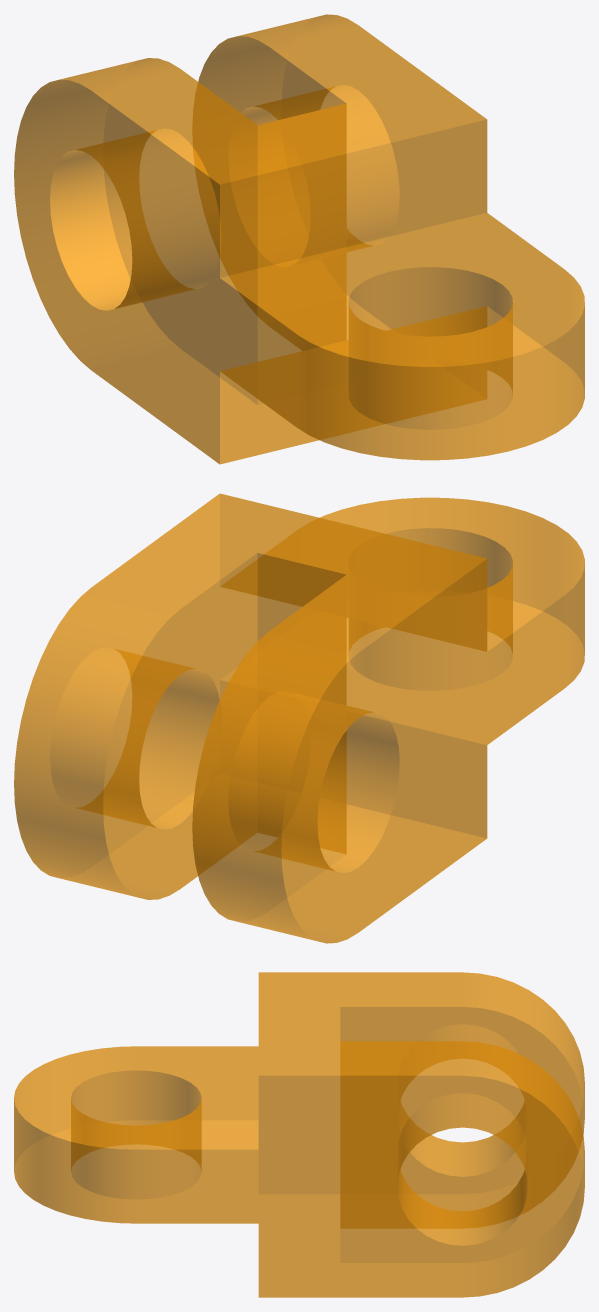
3 renders of one model, top to bottom at view 1: azimuth 30°, elevation 25°; view 2: azimuth 150°, elevation 25°; view 3: azimuth 270°, elevation 25°, orthographic. The views are drawn at different scales.
Parts seen in each view (by area): view 1: Sólido1; view 2: Sólido1; view 3: Sólido1.
Part boxes in pixels (<box>): Sólido1: <box>14,14,584,464</box>; Sólido1: <box>14,493,584,943</box>; Sólido1: <box>14,972,584,1297</box>.
Bounding box in the file's own units: 30 × 30 × 70.
